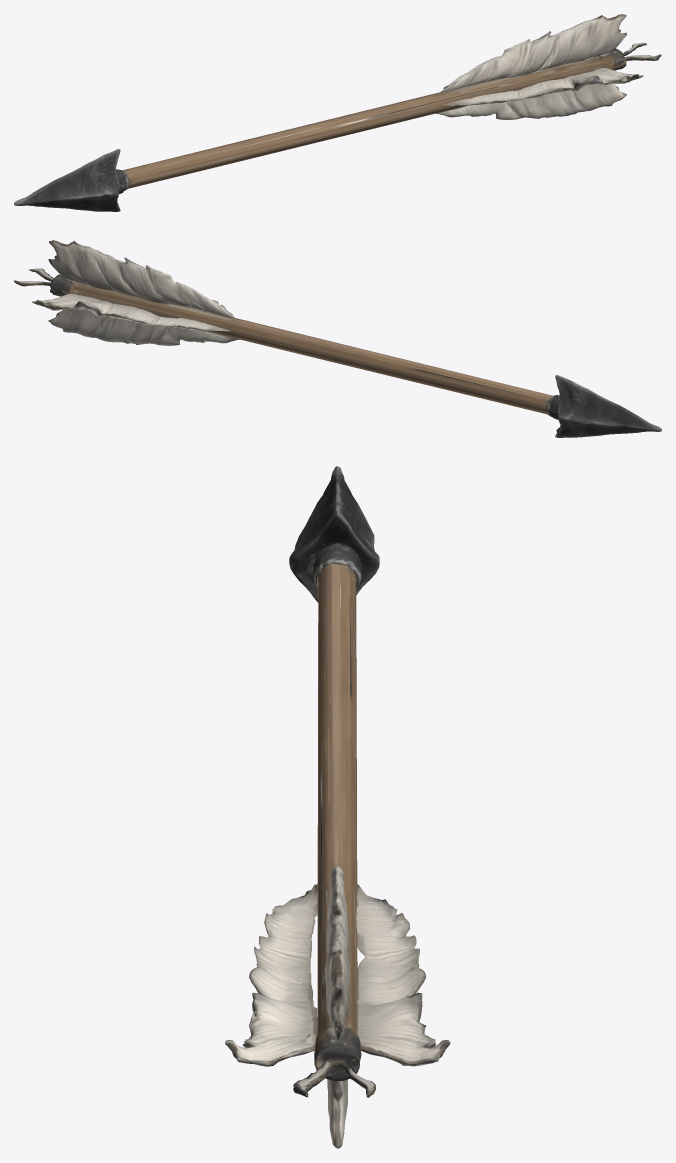
Rendered from Arrow.fbx.
3 renders of one model, top to bottom at view 1: azimuth 30°, elevation 25°; view 2: azimuth 150°, elevation 25°; view 3: azimuth 270°, elevation 25°, orthographic. The views are drawn at different scales.
Visible parts, largest first — view 1: Mesh_0; view 2: Mesh_0; view 3: Mesh_0.
Boxes of the visible parts, left/top/right/bottom form: Mesh_0: left=14, top=14, right=661, bottom=211; Mesh_0: left=14, top=240, right=661, bottom=437; Mesh_0: left=225, top=466, right=450, bottom=1148.
Size of the model in its own units: 95.02 by 13.13 by 14.45.
1 material, 1 textured.
